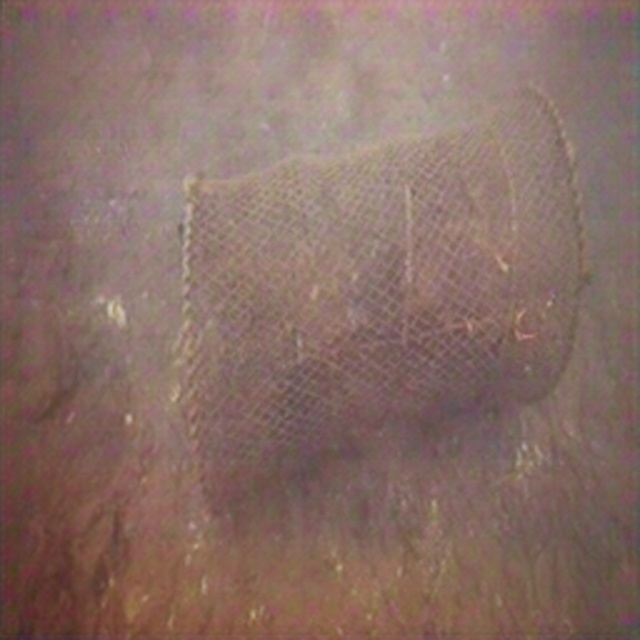mine: (182, 80, 584, 519)
